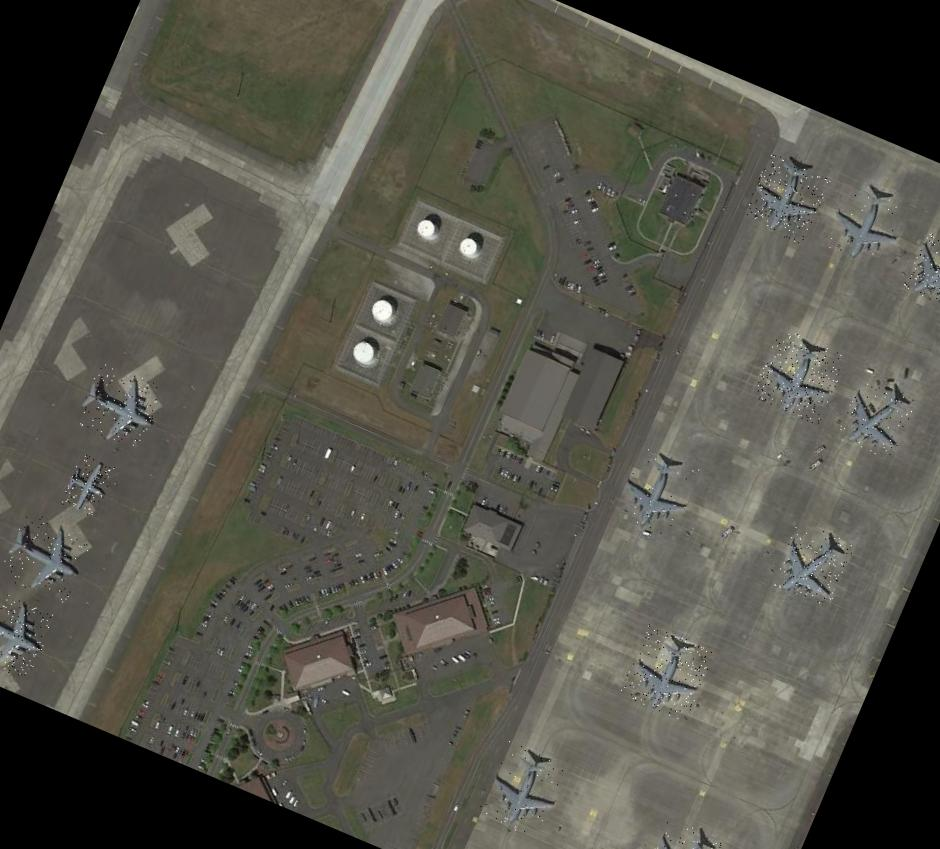A2: (59, 452, 116, 518)
A3: (750, 326, 848, 426), (477, 738, 572, 840), (619, 622, 715, 721), (610, 442, 704, 541), (0, 509, 92, 604), (74, 360, 166, 451), (741, 152, 831, 244), (822, 180, 911, 272), (770, 519, 854, 608), (835, 376, 917, 460), (0, 586, 55, 680), (902, 230, 940, 311), (640, 815, 723, 849)
